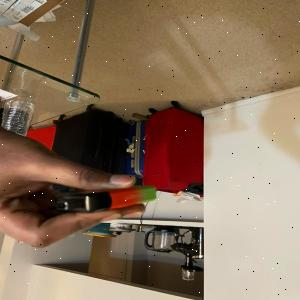Swift-E-Ciggirate: (48, 184, 159, 215)
